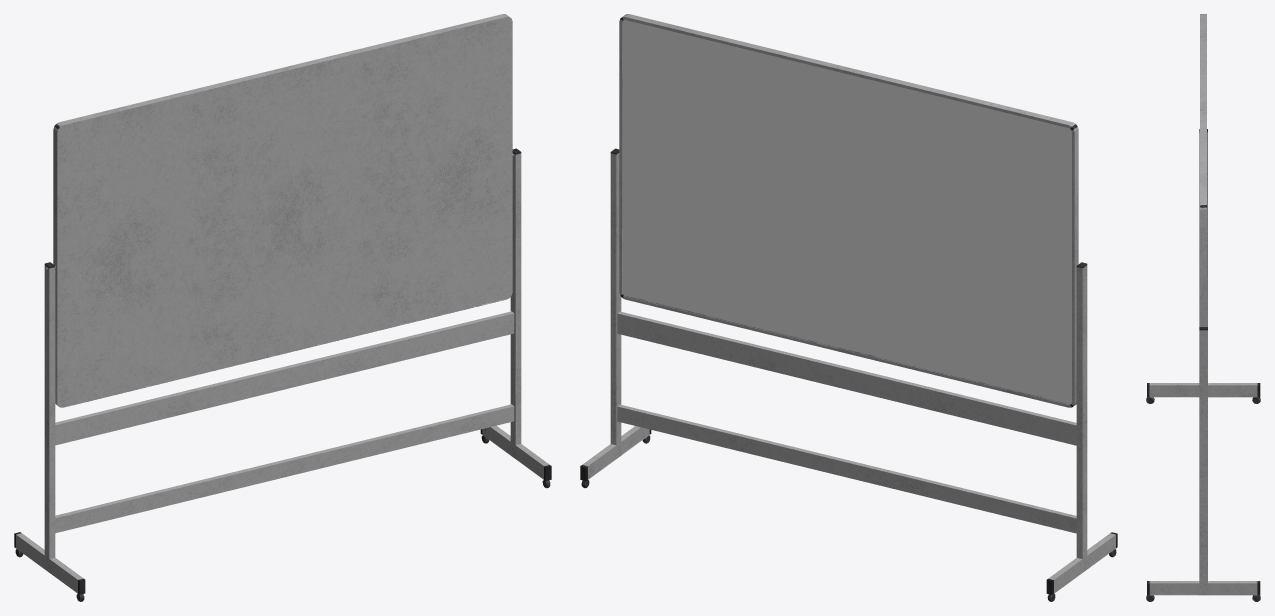
The model's file is blackboard.dae.
3 views of the same model, side by side, from view 1: azimuth 30°, elevation 25°; view 2: azimuth 150°, elevation 25°; view 3: azimuth 270°, elevation 25° (orthographic). The views are drawn at different scales.
Visible parts, largest first — view 1: Cubo.008; view 2: Cubo.008; view 3: Cubo.008.
Part boxes in pixels (x1,y1,x2,y2): Cubo.008: (14, 14, 551, 601); Cubo.008: (580, 14, 1117, 601); Cubo.008: (1146, 14, 1260, 601).
Bounding box in the file's own units: 2.15 × 0.5178 × 1.97.
